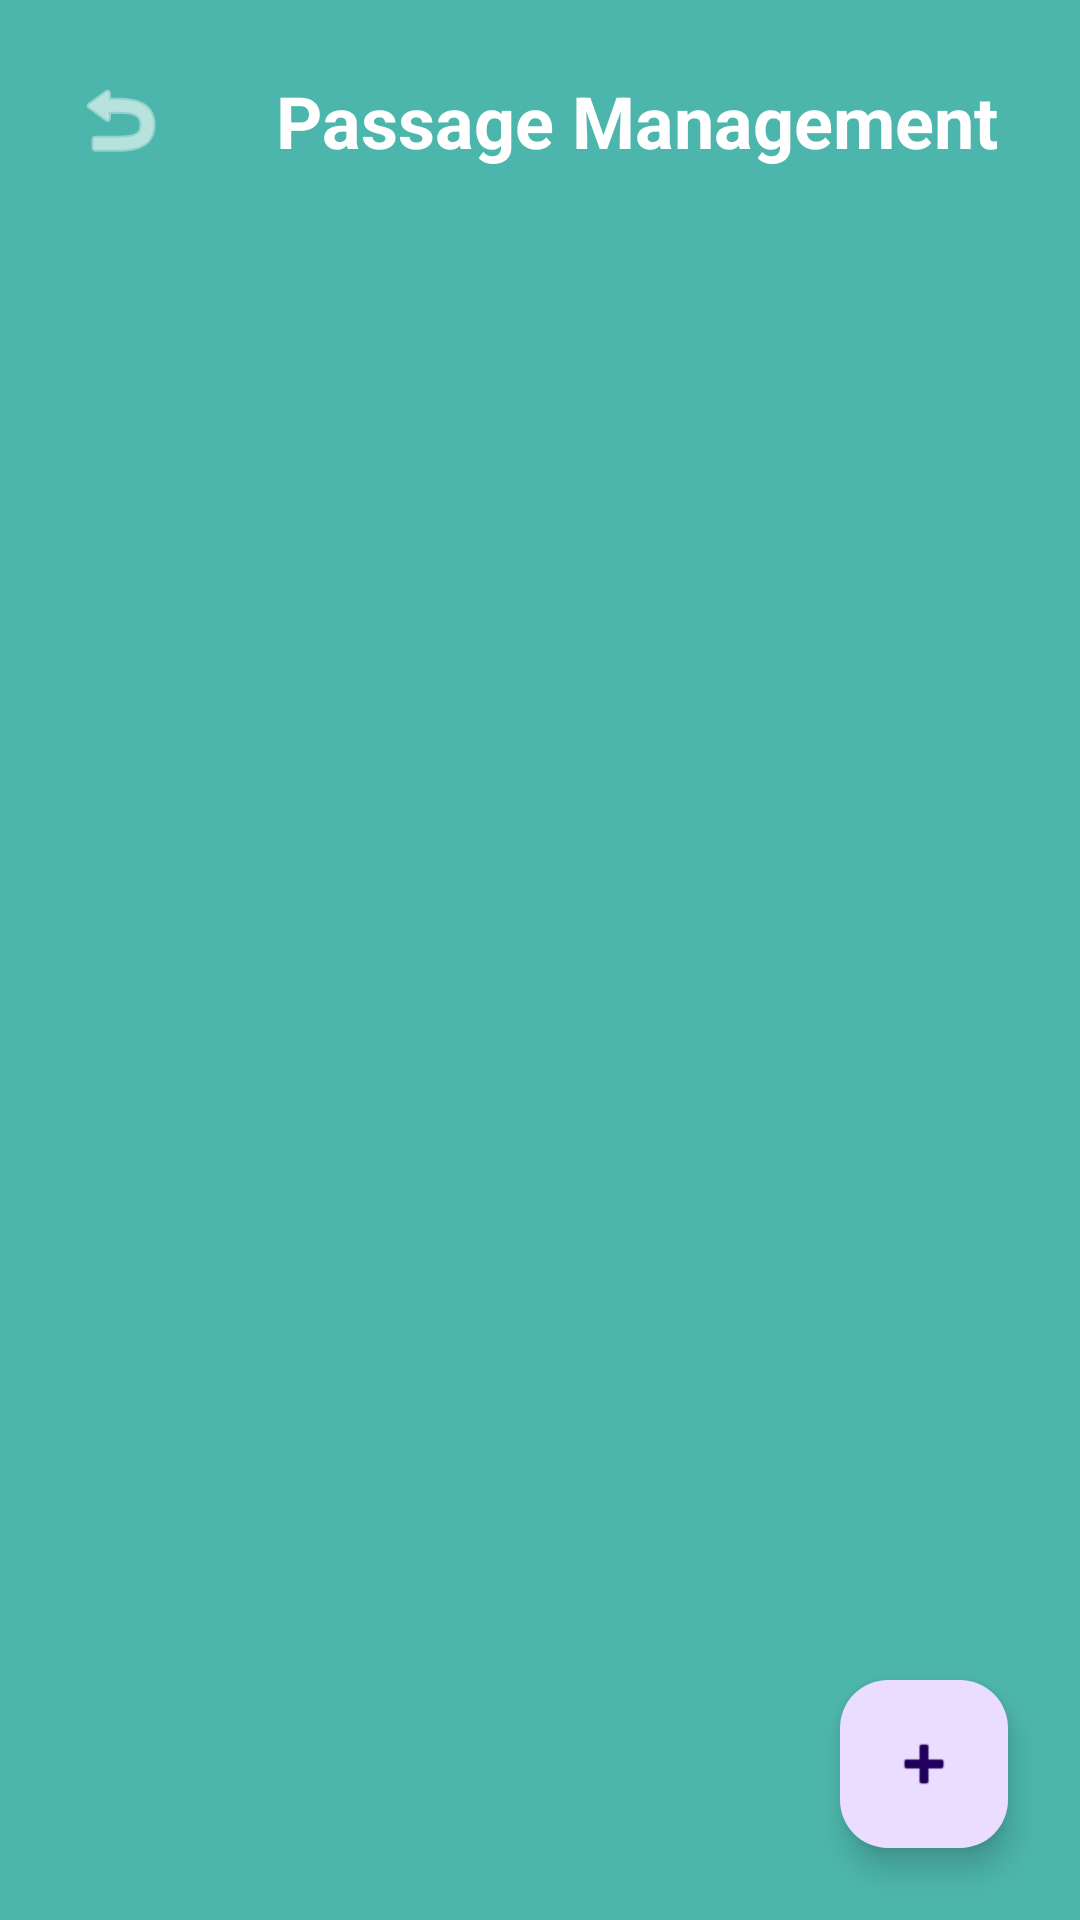

Named icons in this screenshot (1080w x 1920h) and their centers, (x=x, y=y):
Add Passage: (x=924, y=1764)
Back: (x=121, y=120)
